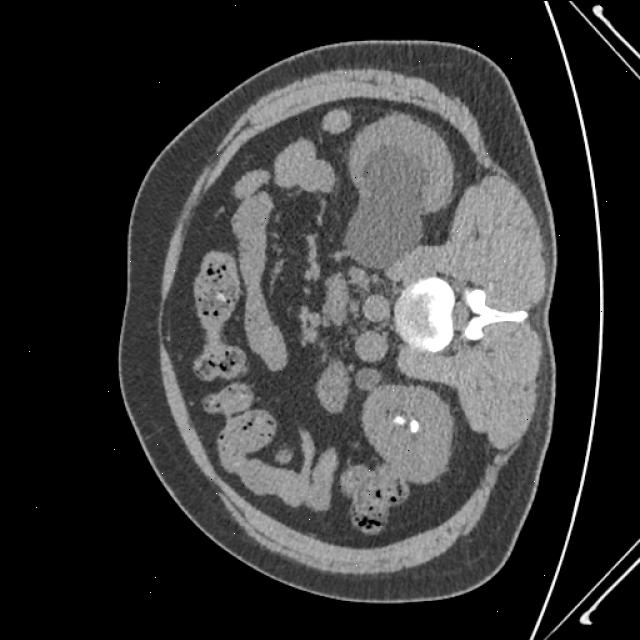kidneystone: (411, 419, 419, 432), (394, 415, 404, 424)
